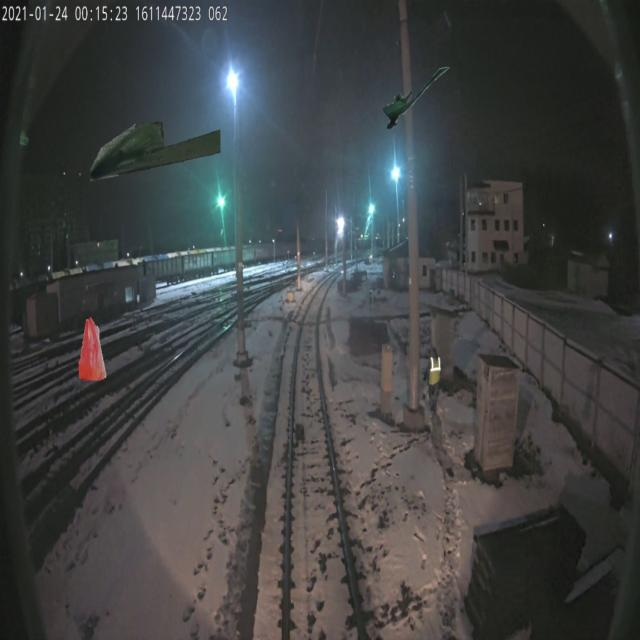floating object: (91, 118, 220, 182), (383, 64, 450, 128)
plastic bag: (78, 316, 106, 381)
